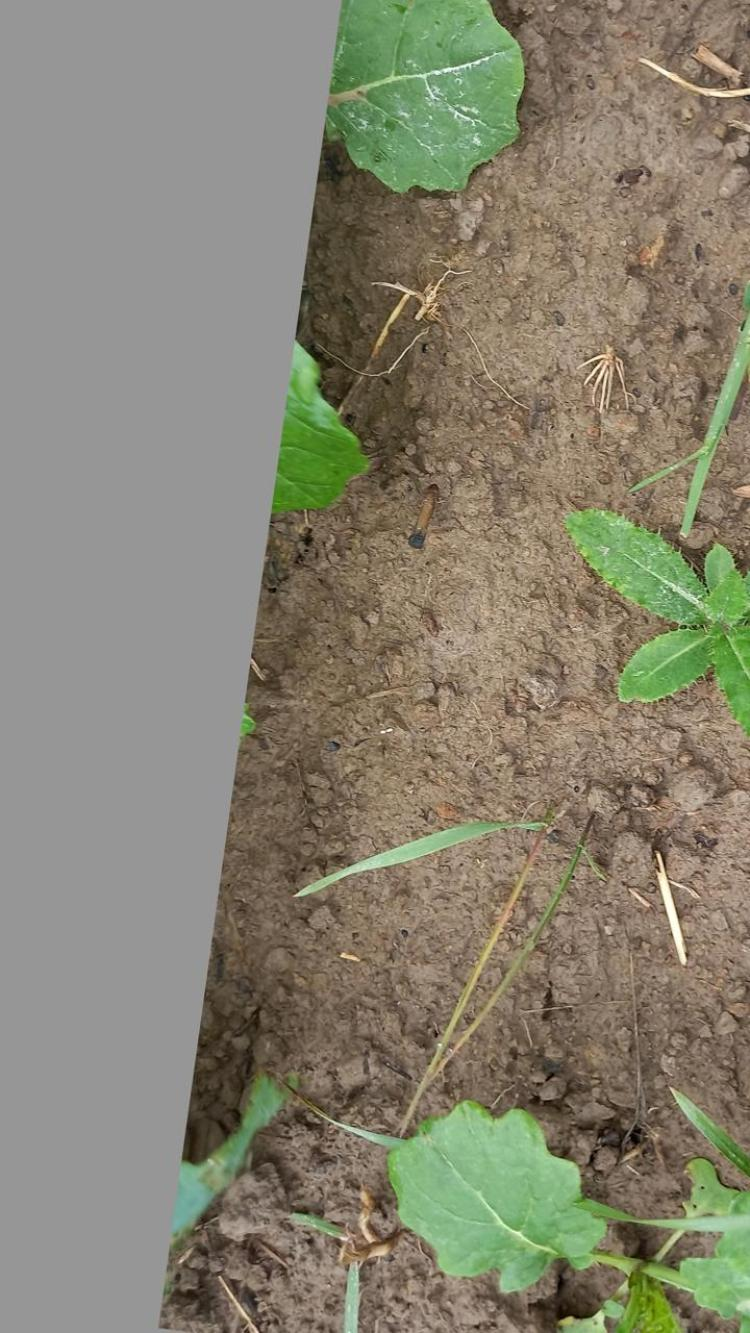bodyak: (550, 496, 750, 742)
